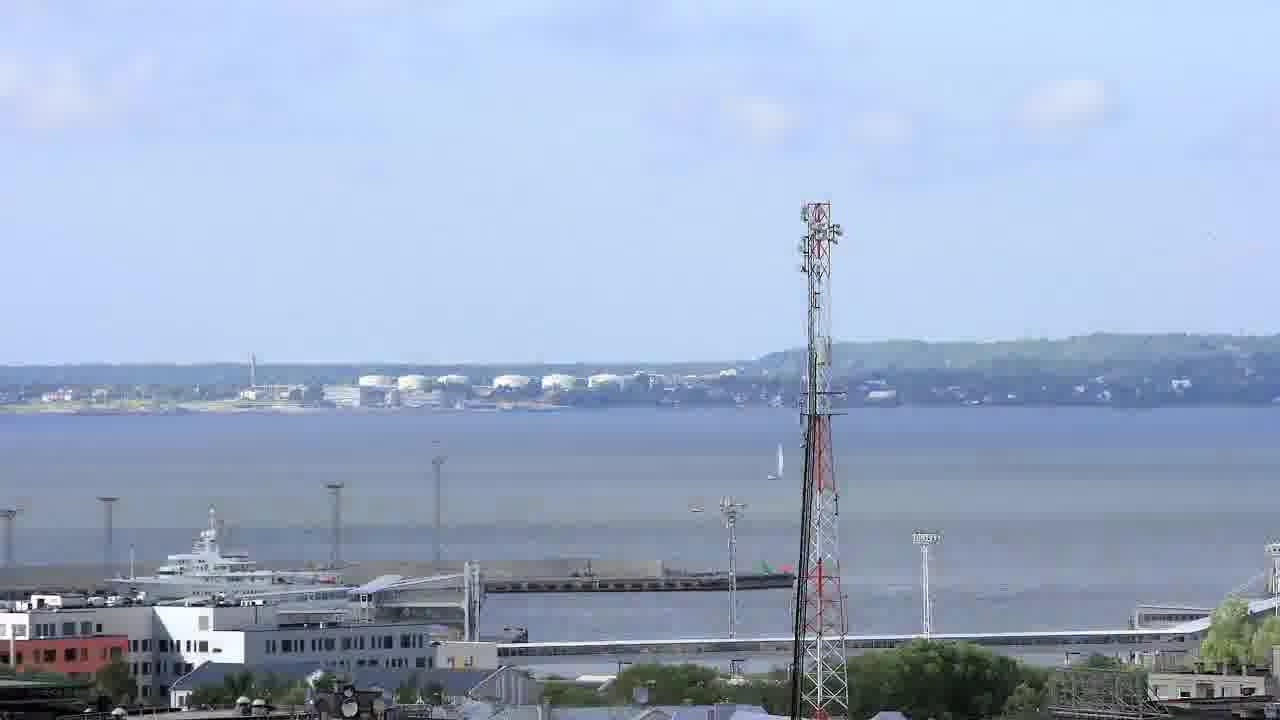type-2: (749, 430, 803, 498)
type-3: (84, 515, 355, 603)
